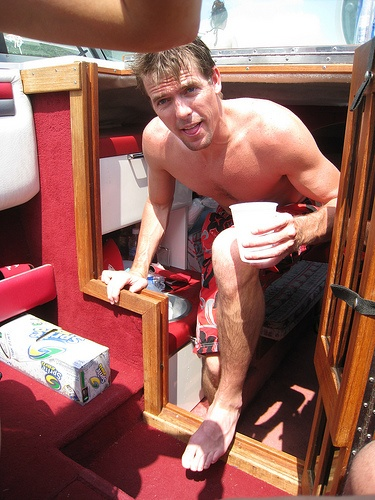head: (137, 38, 223, 152)
person: (106, 30, 346, 472)
